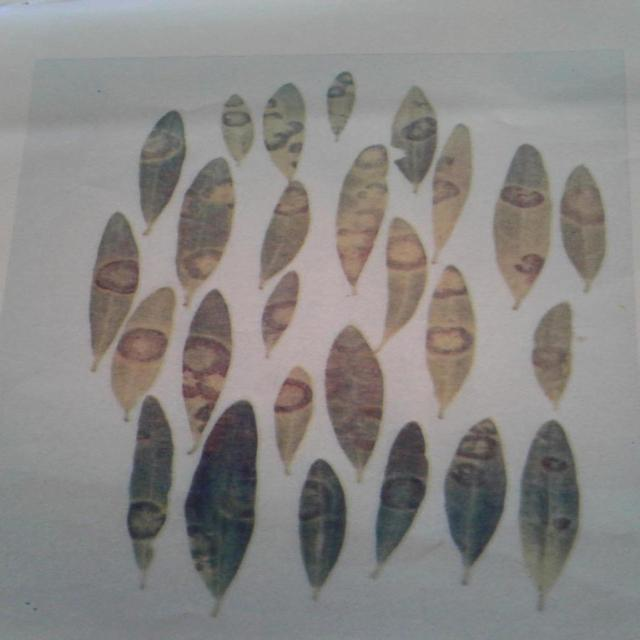Peacock Eye: (185, 402, 257, 599), (520, 420, 579, 599), (494, 144, 552, 310), (445, 419, 506, 570), (127, 398, 172, 588), (326, 326, 383, 472), (112, 288, 175, 420), (181, 290, 231, 454), (375, 422, 428, 567), (177, 158, 234, 292), (427, 266, 476, 418), (337, 144, 388, 289), (90, 212, 139, 362), (300, 460, 345, 599), (139, 110, 185, 232), (432, 124, 472, 262), (561, 166, 605, 291), (384, 218, 426, 342), (260, 181, 308, 285), (391, 86, 436, 191), (532, 302, 572, 408), (275, 367, 313, 472), (264, 84, 305, 180), (262, 270, 300, 357), (223, 94, 254, 164), (327, 71, 355, 141)
